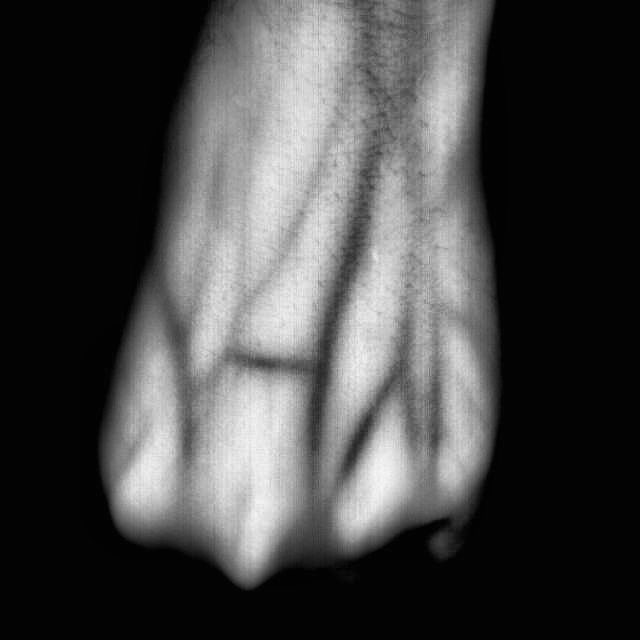Vein: (226, 121, 390, 448)
